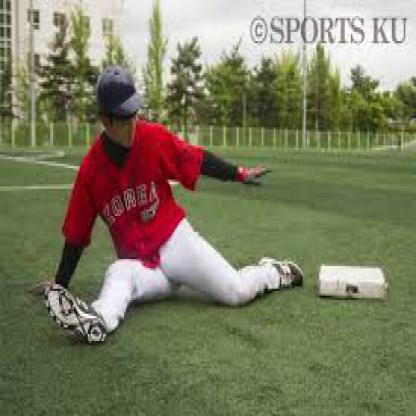Fall_Down: (26, 62, 310, 349)
